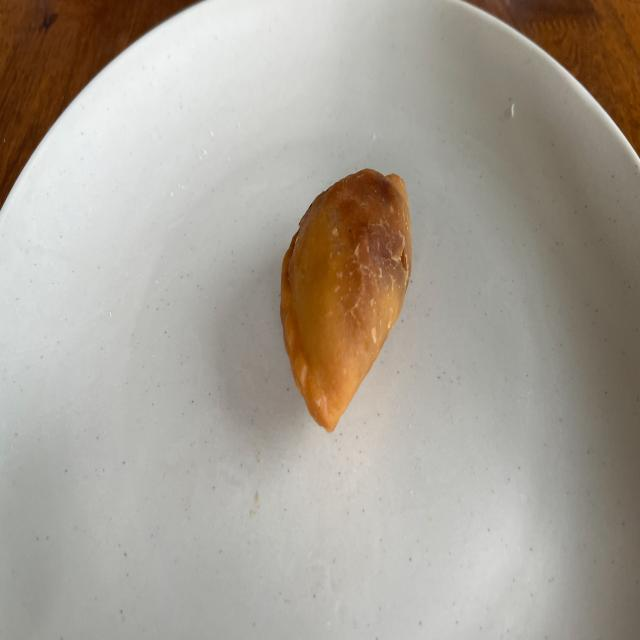karipap: (280, 169, 411, 431)
